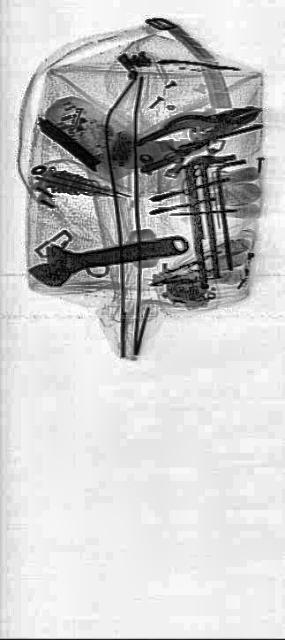Pliers: (164, 82, 262, 164)
Wrench: (27, 223, 189, 291)
